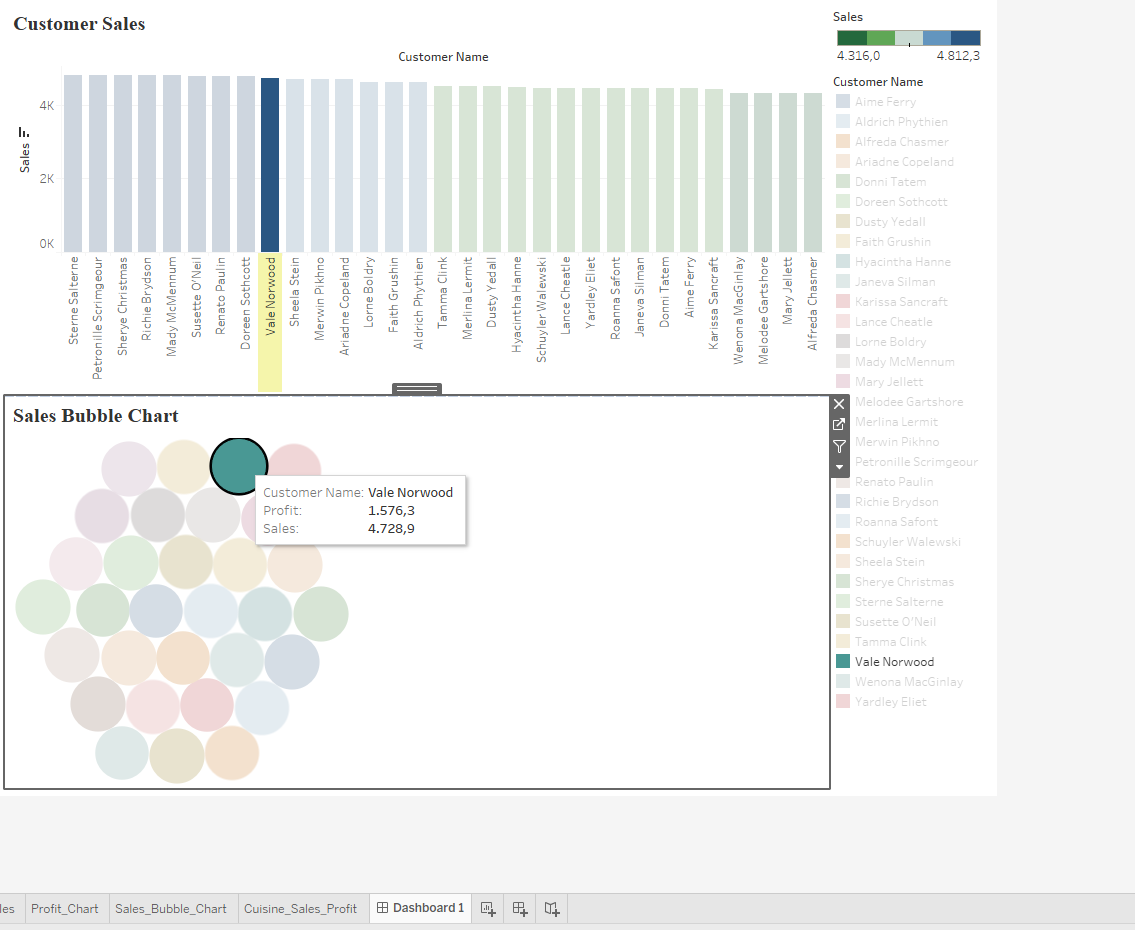

What the dashboard file says about the page in this screenshot:
{"tool":"tableau","page":{"name":"Dashboard 1","canvas":[1000,800],"ordinal":0},"visuals":[{"type":"worksheet","title":"Customer_Sales","mark":"Automatic","rows":["Sales"],"cols":["Customer Name"],"box":[8,8,824,392]},{"type":"legend","title":"Customer_Sales","param":"[federated.1saqoa11wsmm6p1h4w5410biub47].[sum:Sales:qk]","box":[832,8,160,65]},{"type":"legend","title":"Sales_Bubble_Chart","param":"[federated.1saqoa11wsmm6p1h4w5410biub47].[none:Customer Name:nk]","box":[832,73,160,646]},{"type":"worksheet","title":"Sales_Bubble_Chart","mark":"Circle","box":[8,400,824,392]}]}

Visuals, with their boxes on the page's 1000x800 design canvas (x1, y1, x2, y2). These are canvas units, not pixel positions in the 1135x930 screenshot, which may show the page scaled, cropped or inside an application window:
"Customer_Sales" worksheet: pyautogui.locateOnScreen(8, 8, 832, 400)
"Customer_Sales" legend: pyautogui.locateOnScreen(832, 8, 992, 73)
"Sales_Bubble_Chart" legend: pyautogui.locateOnScreen(832, 73, 992, 719)
"Sales_Bubble_Chart" worksheet (Circle marks): pyautogui.locateOnScreen(8, 400, 832, 792)
